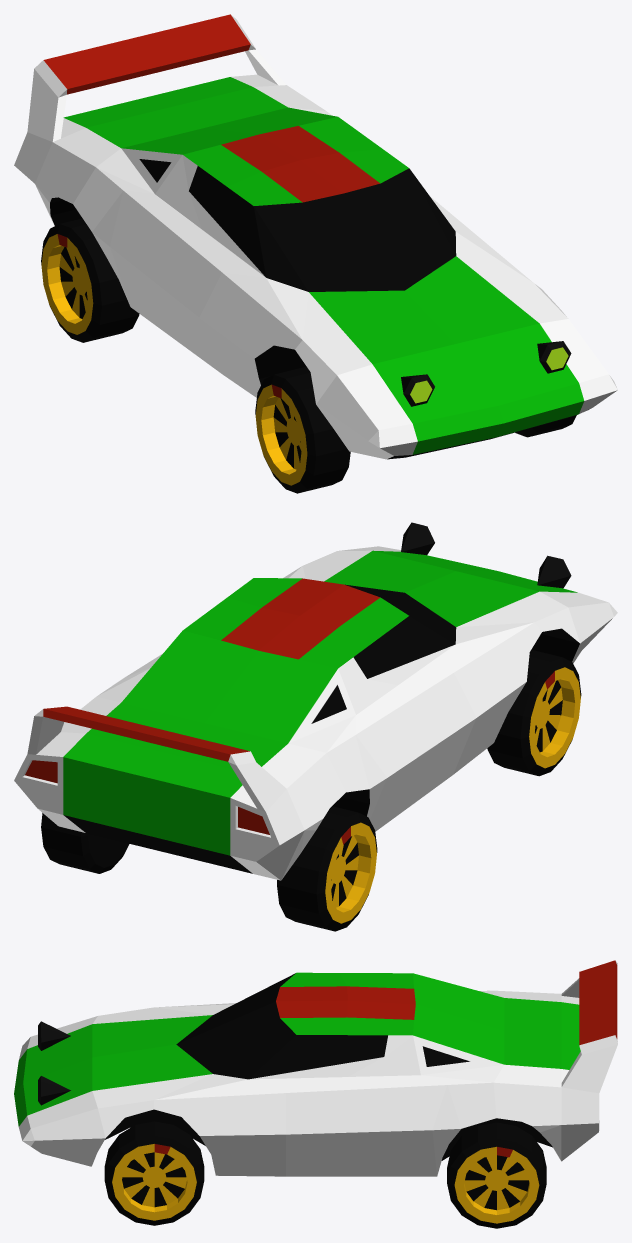
Rendered from RallyWheelTest.fbx.
3 views of the same model, one above another, from view 1: azimuth 30°, elevation 25°; view 2: azimuth 150°, elevation 25°; view 3: azimuth 270°, elevation 25° (orthographic). The views are drawn at different scales.
Visible parts, largest first — view 1: CarBody, Wheel FrontRight, Wheel BackRight; view 2: CarBody, Wheel BackRight, Wheel FrontRight, Wheel BackLeft; view 3: CarBody, Wheel BackLeft, Wheel FrontLeft.
Boxes of the visible parts, box(x1,y1,x2,y2) form: CarBody: box(14, 14, 617, 459); Wheel FrontRight: box(255, 366, 350, 493); Wheel BackRight: box(41, 218, 139, 342); CarBody: box(14, 522, 617, 880); Wheel BackRight: box(277, 806, 377, 931); Wheel FrontRight: box(487, 650, 581, 776); Wheel BackLeft: box(41, 813, 129, 873); CarBody: box(14, 960, 617, 1176); Wheel BackLeft: box(447, 1122, 546, 1228); Wheel FrontLeft: box(104, 1121, 204, 1225).
Bounding box in the file's own units: 165 × 119 × 371.
